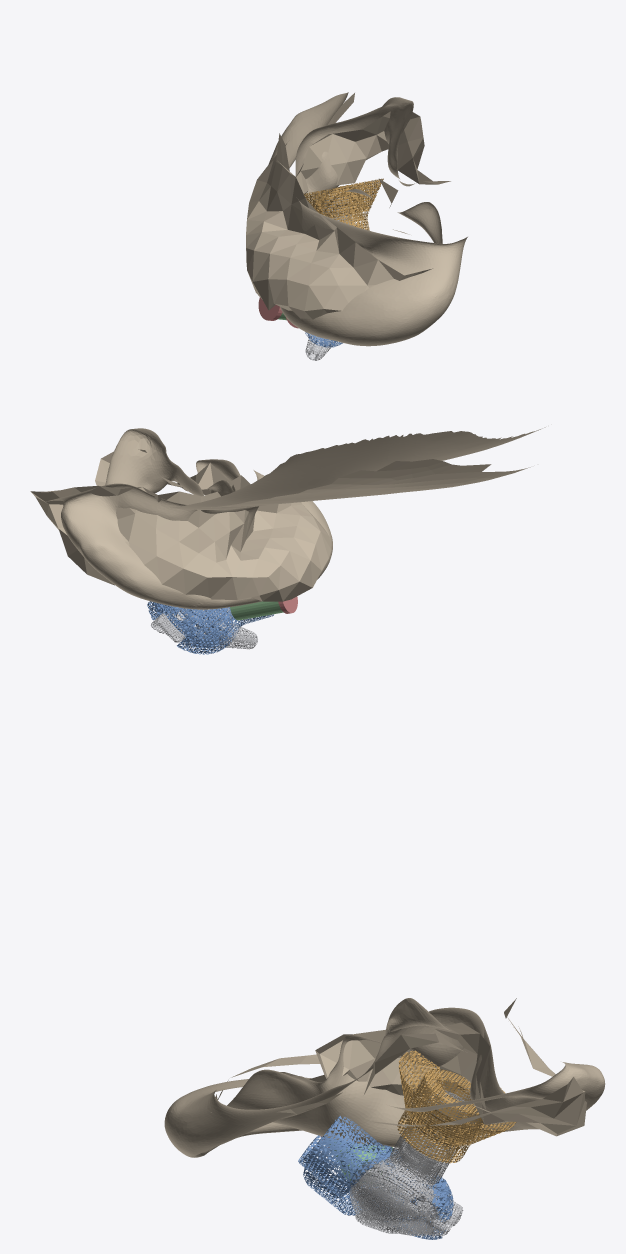
The model's file is seated_median.glb.
The picture shows the model from 3 angles, top to bottom: view 1: azimuth 30°, elevation 25°; view 2: azimuth 150°, elevation 25°; view 3: azimuth 270°, elevation 25°; orthographic projection. The views are drawn at different scales.
Visible parts, largest first — view 1: ear, carrier; view 2: ear, jacket_wing, core, stack_site2; view 3: ear, carrier, jacket_wing, core, faceplate, nozzle_insert_short.
Part boxes in pixels (left/top/right/bottom): ear: left=246, top=92, right=467, bottom=346; carrier: left=304, top=178, right=383, bottom=230; ear: left=30, top=427, right=545, bottom=609; jacket_wing: left=147, top=601, right=273, bottom=654; core: left=151, top=607, right=257, bottom=649; stack_site2: left=230, top=601, right=283, bottom=620; ear: left=164, top=998, right=605, bottom=1157; carrier: left=397, top=1050, right=516, bottom=1163; jacket_wing: left=298, top=1116, right=453, bottom=1239; core: left=352, top=1141, right=463, bottom=1236; faceplate: left=349, top=1175, right=433, bottom=1235; nozzle_insert_short: left=389, top=1090, right=468, bottom=1184.
Bounding box in the file's own units: 84.99 × 61.55 × 84.99.
